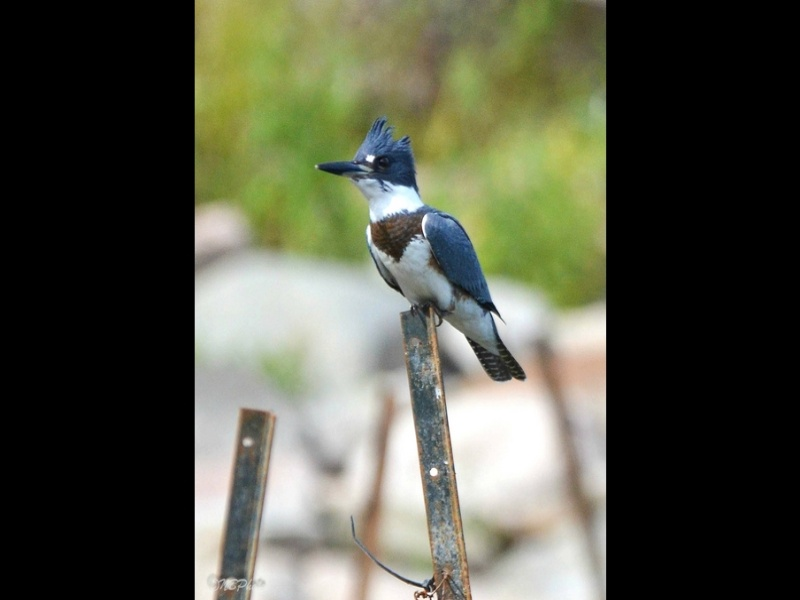kingfisher: (312, 116, 527, 387)
